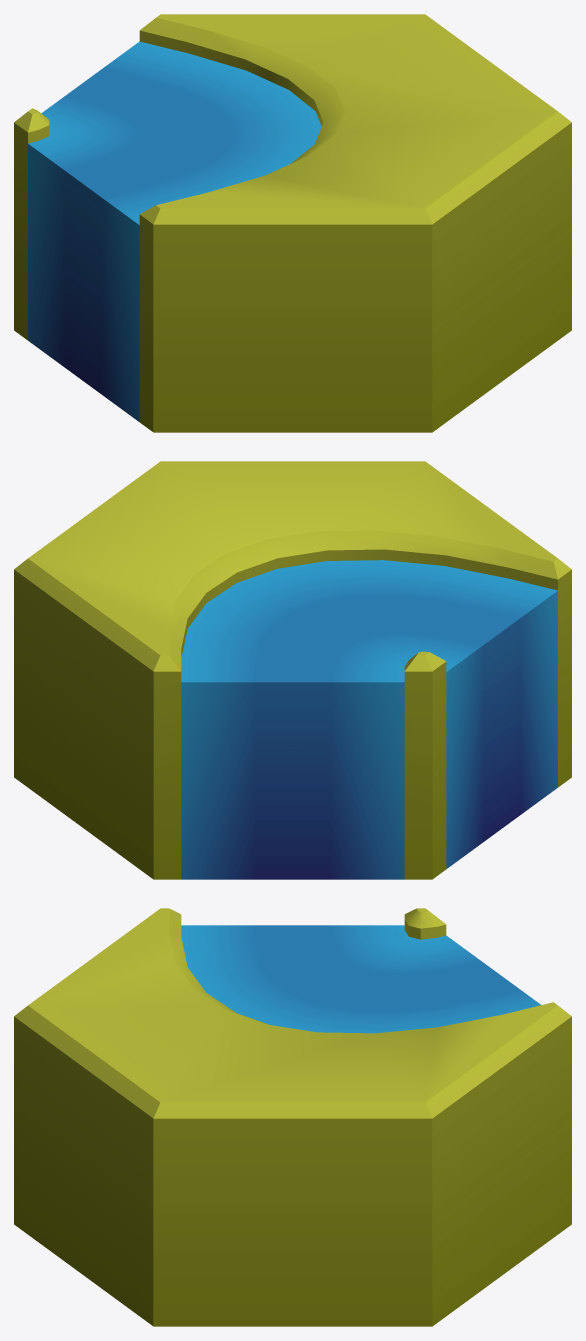
File: kaykit-medieval-hexagon-pack-hex-river-c.glb
3 renders of one model, top to bottom at view 1: azimuth 30°, elevation 25°; view 2: azimuth 150°, elevation 25°; view 3: azimuth 270°, elevation 25°, orthographic.
Parts seen in each view (by area): view 1: hex_river_C; view 2: hex_river_C; view 3: hex_river_C.
Part boxes in pixels (<box>): hex_river_C: <box>14,14,571,432</box>; hex_river_C: <box>14,461,571,879</box>; hex_river_C: <box>14,908,571,1326</box>.
Size of the model in its own units: 2 by 1 by 2.31.
1 material, 1 textured.
